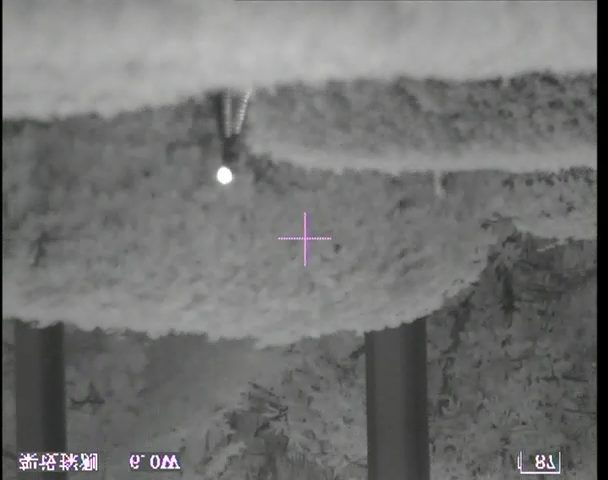my: (215, 165, 233, 186)
